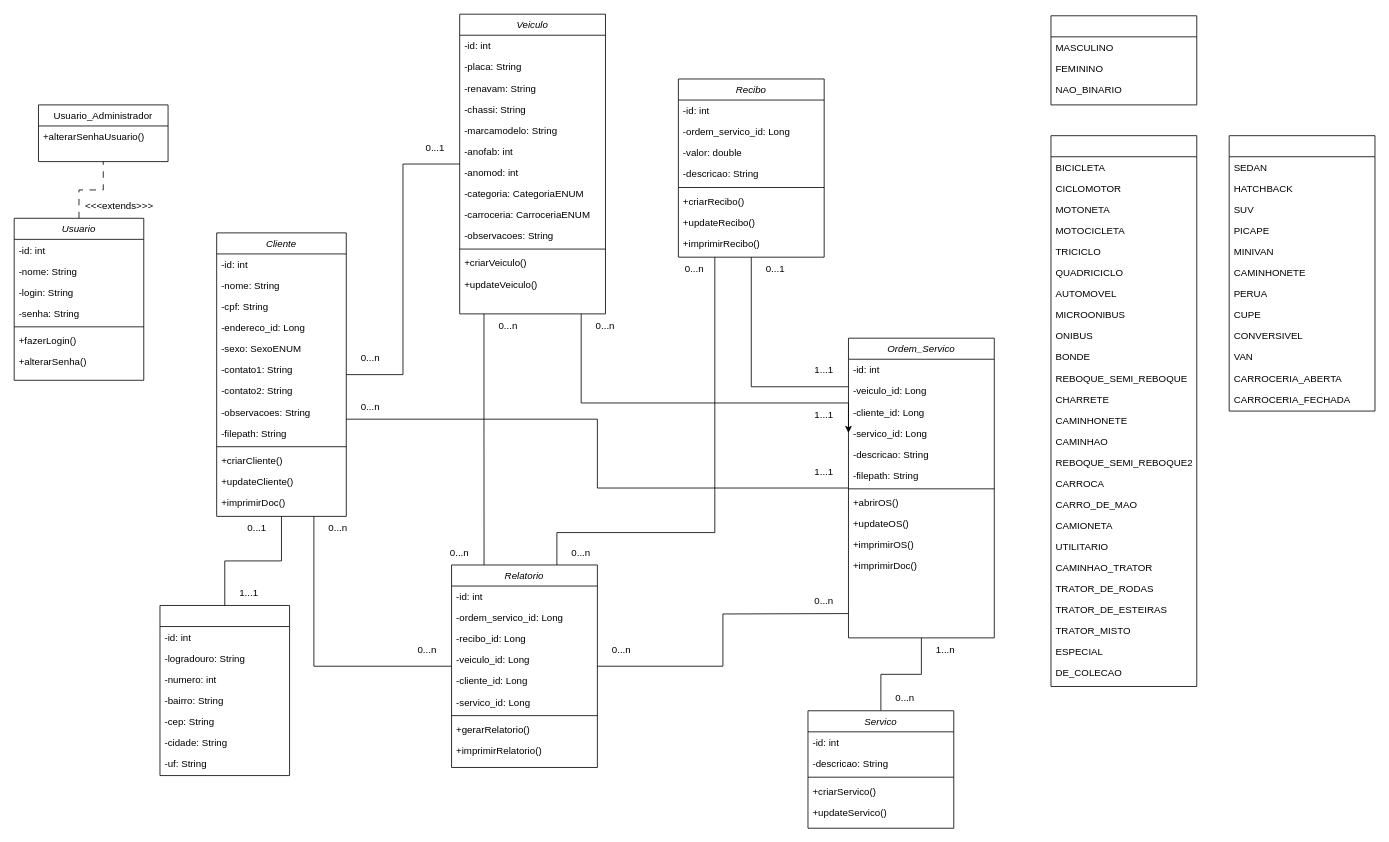
Image size: 1389x842. Some labels were removed from this diagram. Each missing label, with the box of its shape:
CarroceriaENUM: (1228, 135, 1375, 411)
CategoriaENUM: (1050, 135, 1197, 686)
Endereco: (159, 605, 290, 776)
SexoENUM: (1050, 15, 1197, 105)
